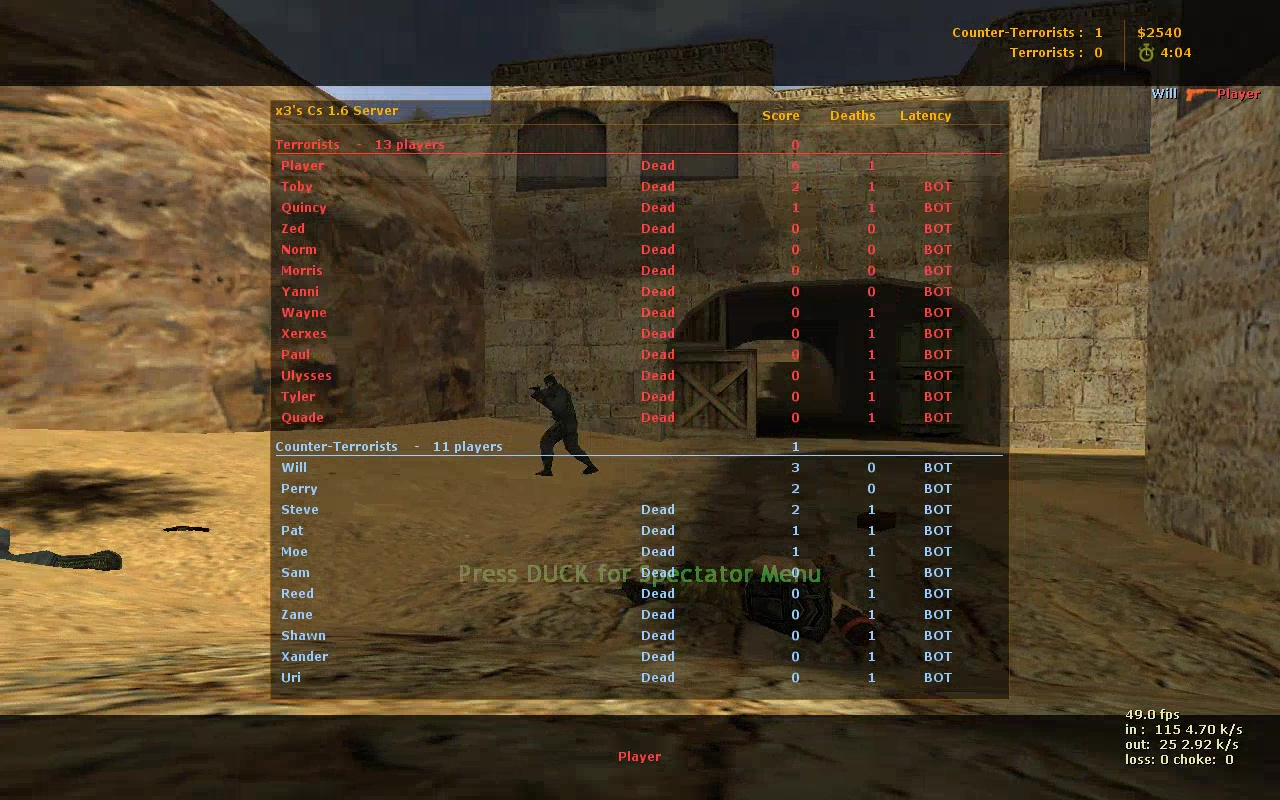ct: (527, 374, 597, 479)
dead: (630, 554, 876, 654)
